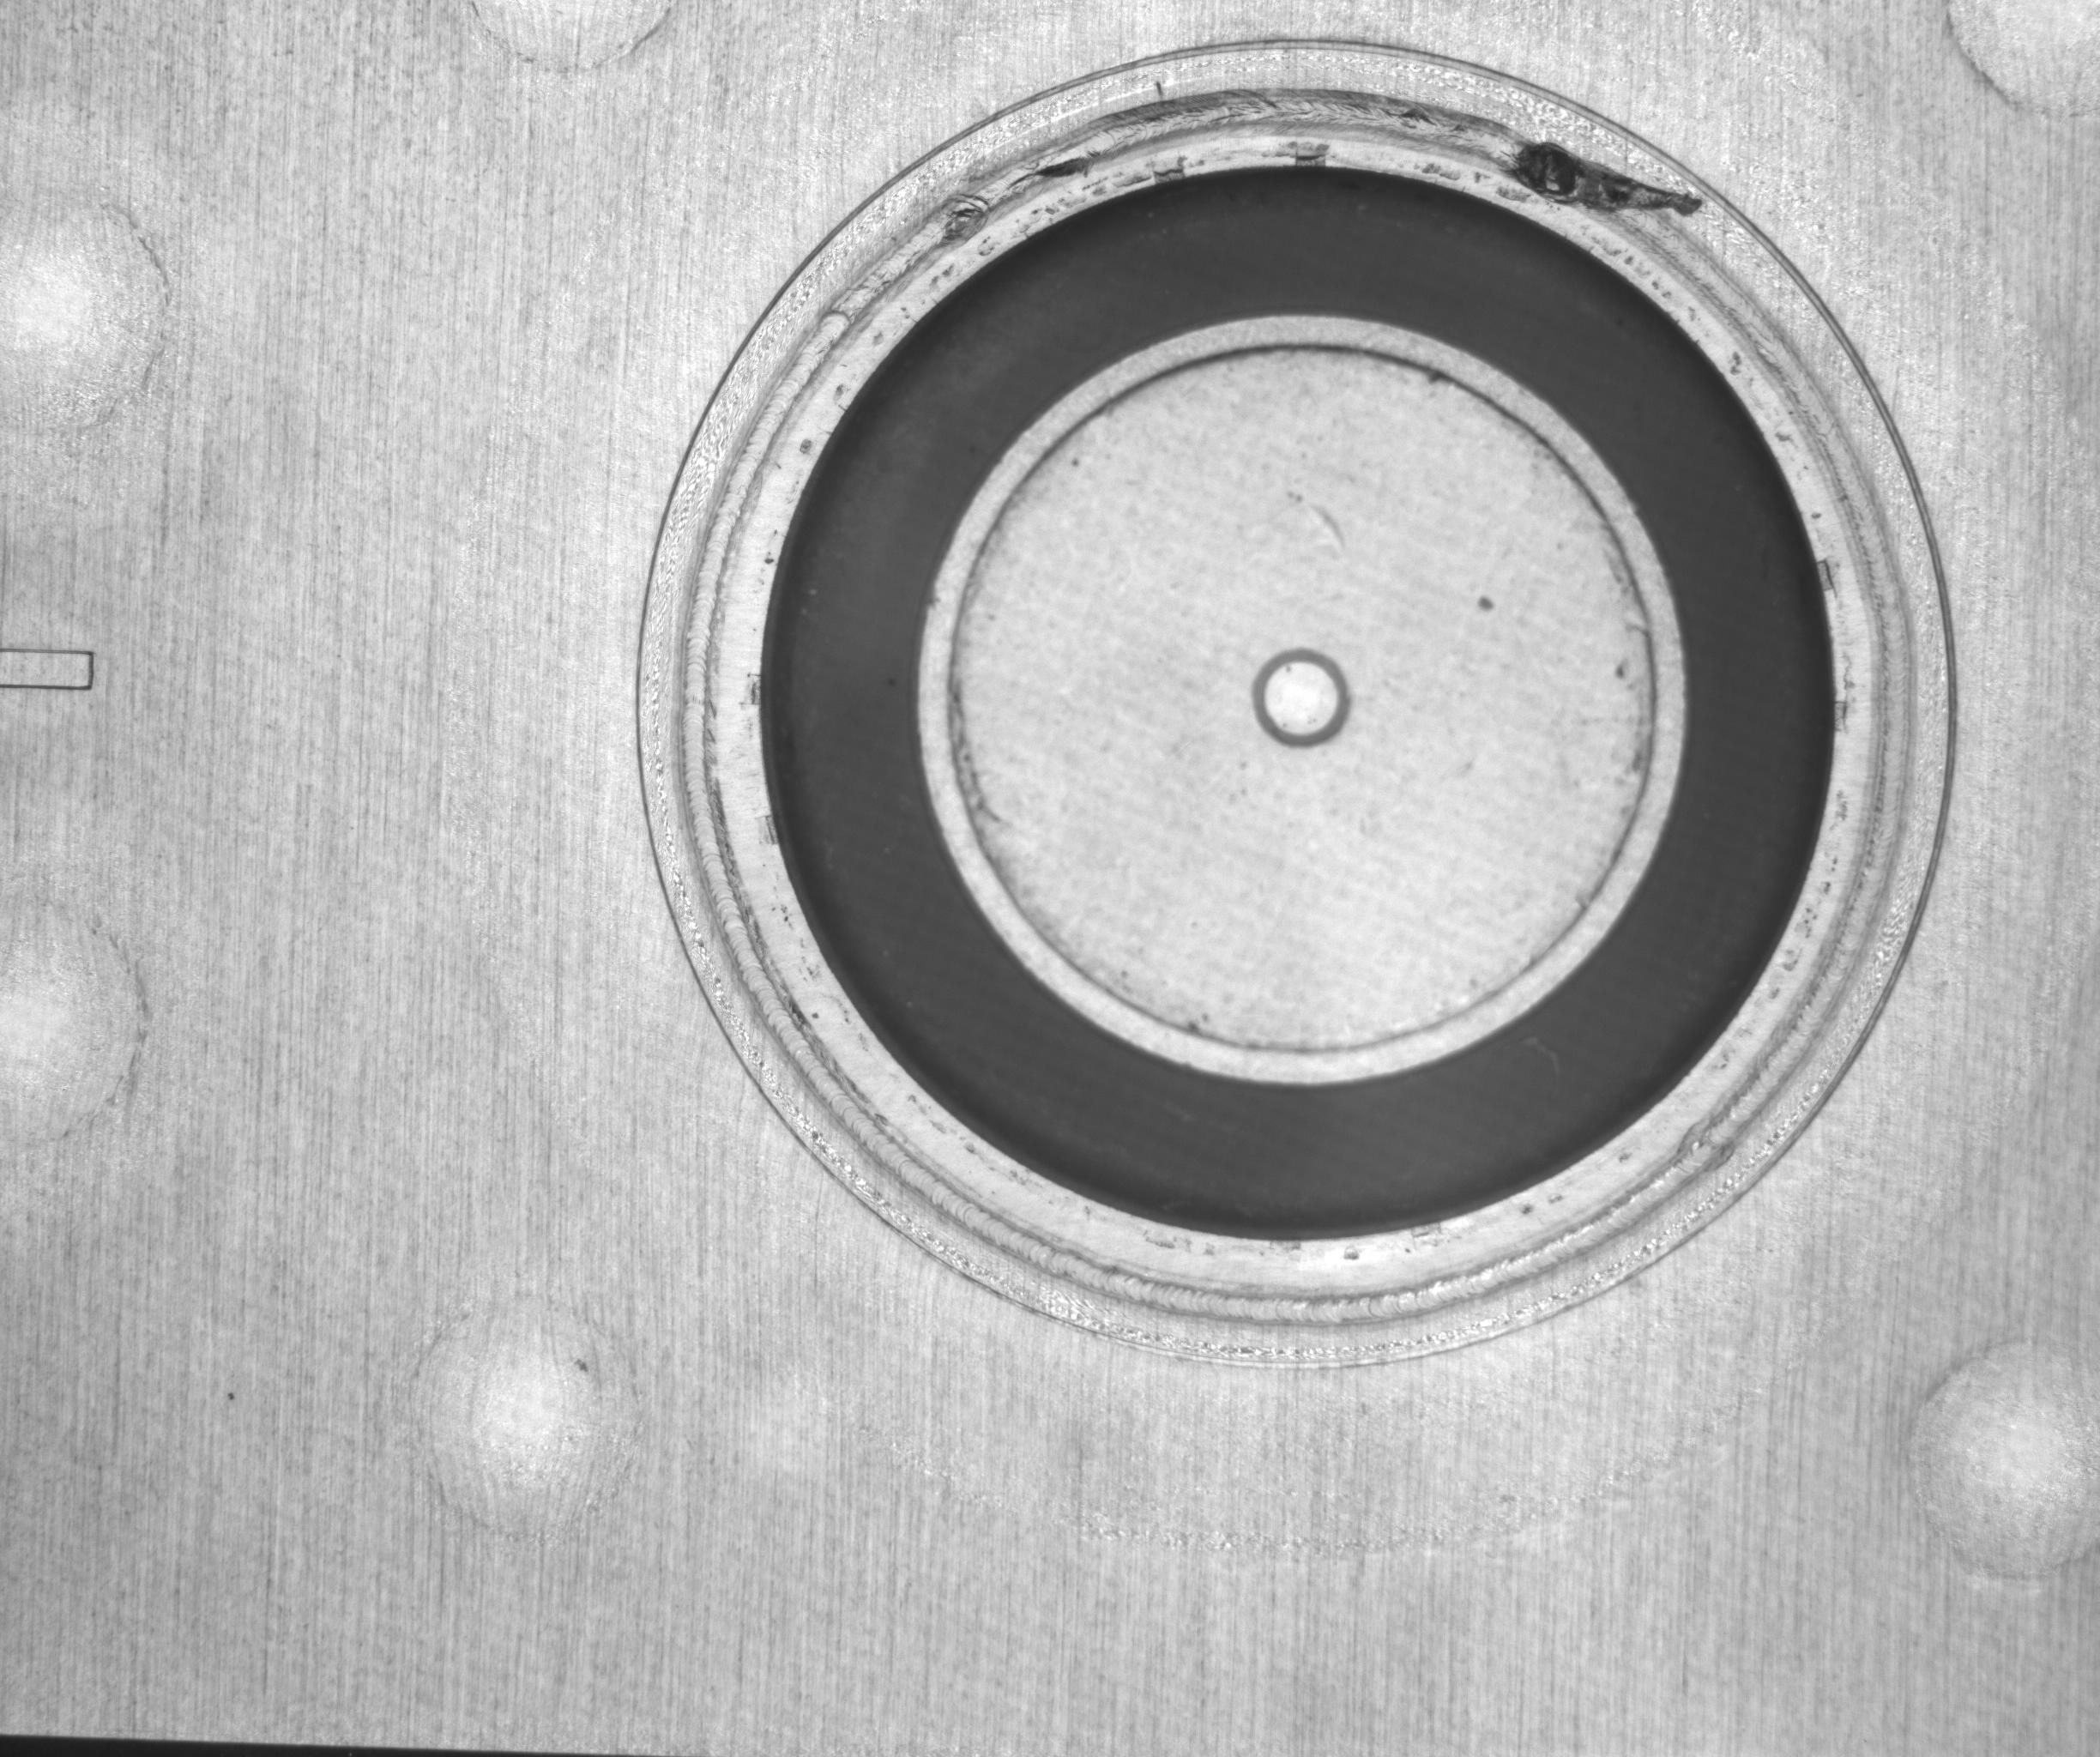continuousholes: (1481, 84, 1748, 293)
